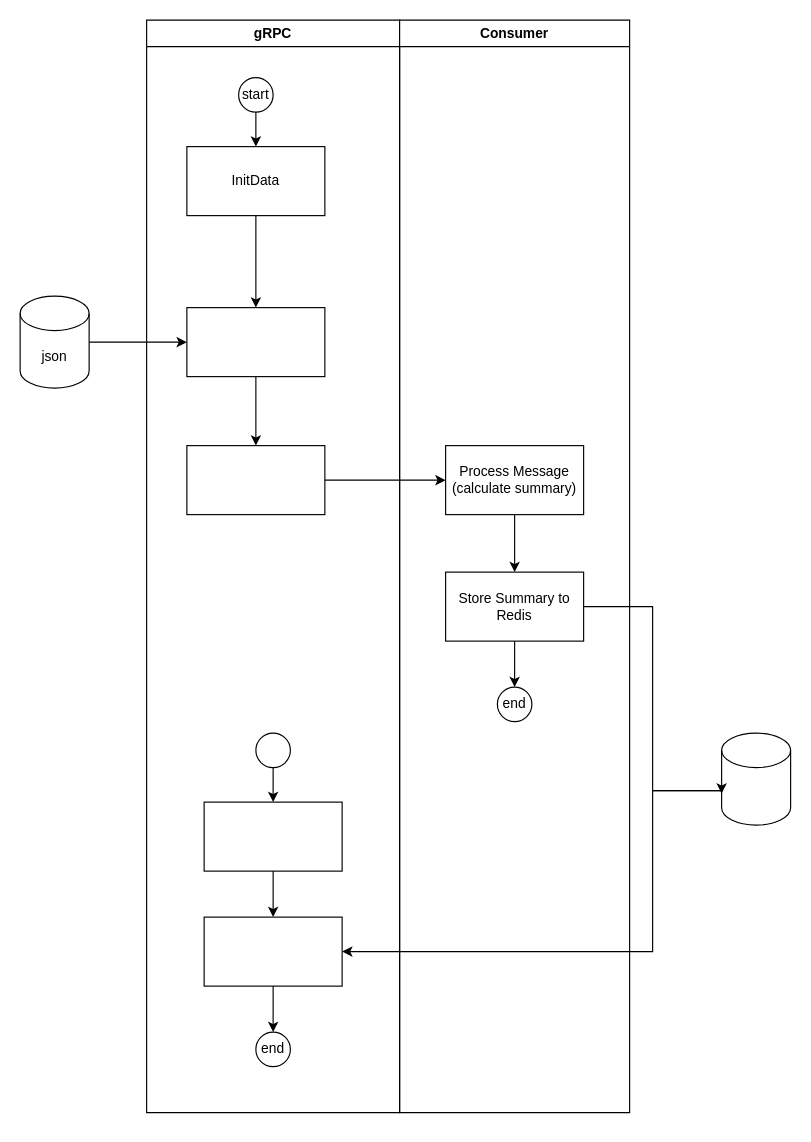
The diagram is 811 pixels wide and 1142 high, and some of its shapes have lost their labels. Here are the shapes that lost their labels. From the top down, the centre of each, then its label:
At pixel 255 341: "Get data from subset (json)".
At pixel 255 479: "Produce Message".
At pixel 755 778: "redis".
At pixel 272 836: "GetSummary".
At pixel 272 951: "Get Data From Redis".
